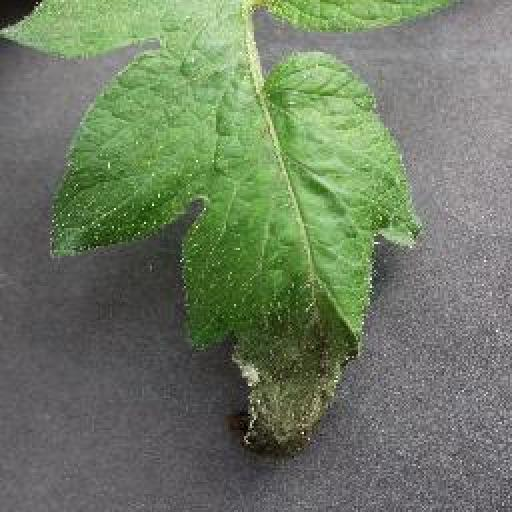disease_tomato: (0, 0, 420, 460)
